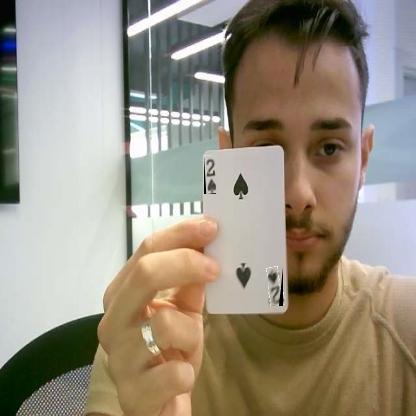2S: (268, 267, 283, 306), (204, 155, 216, 194)
